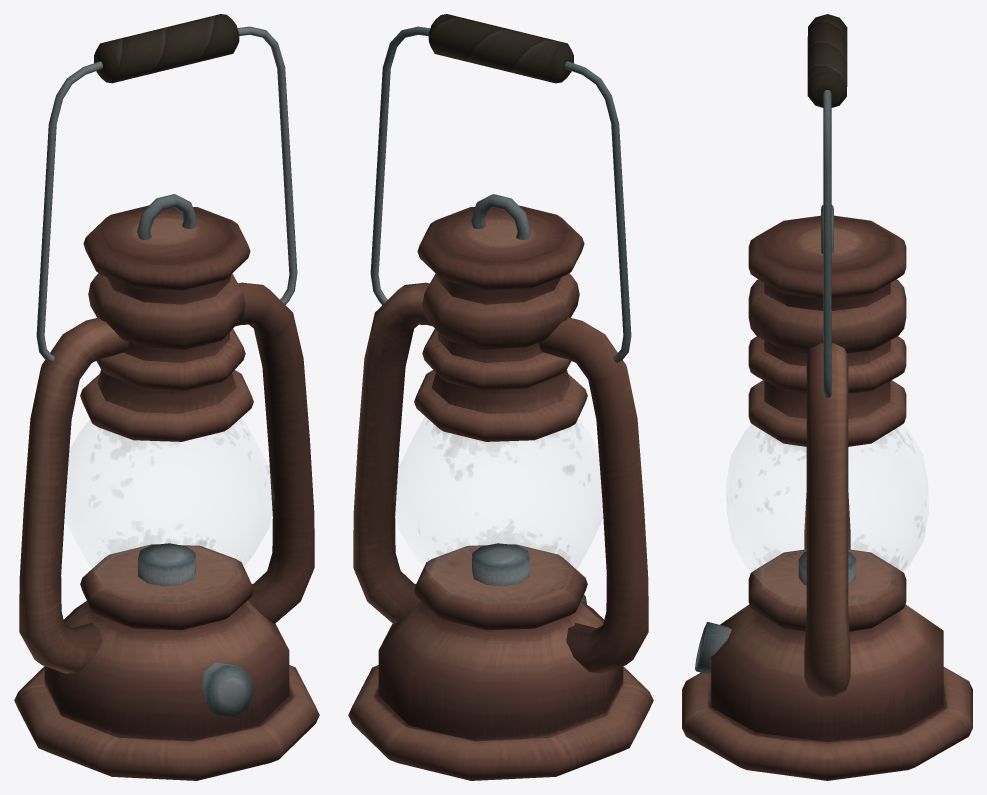
Rendered from Lampe.fbx.
3 views of the same model, side by side, from view 1: azimuth 30°, elevation 25°; view 2: azimuth 150°, elevation 25°; view 3: azimuth 270°, elevation 25° (orthographic).
Visible parts, largest first — view 1: Lampe; view 2: Lampe; view 3: Lampe.
Boxes of the visible parts, x1,y1,x2,y2 form: Lampe: (14,14,319,780); Lampe: (348,14,653,780); Lampe: (682,14,972,780).
Bounding box in the file's own units: 622 × 1434 × 553.
